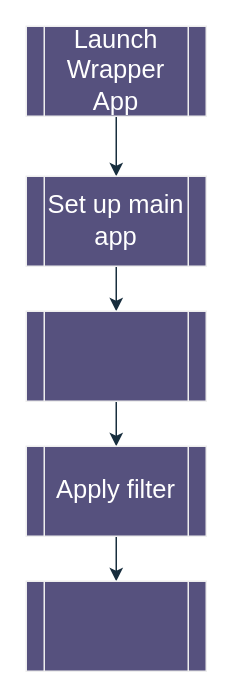
Some shapes in this 233 by 698 pixel diagram are drawn without their labels. Each missing label, with the centre of its shape:
Drop main app privileges: point 115,355
Launch main app: point 115,625
